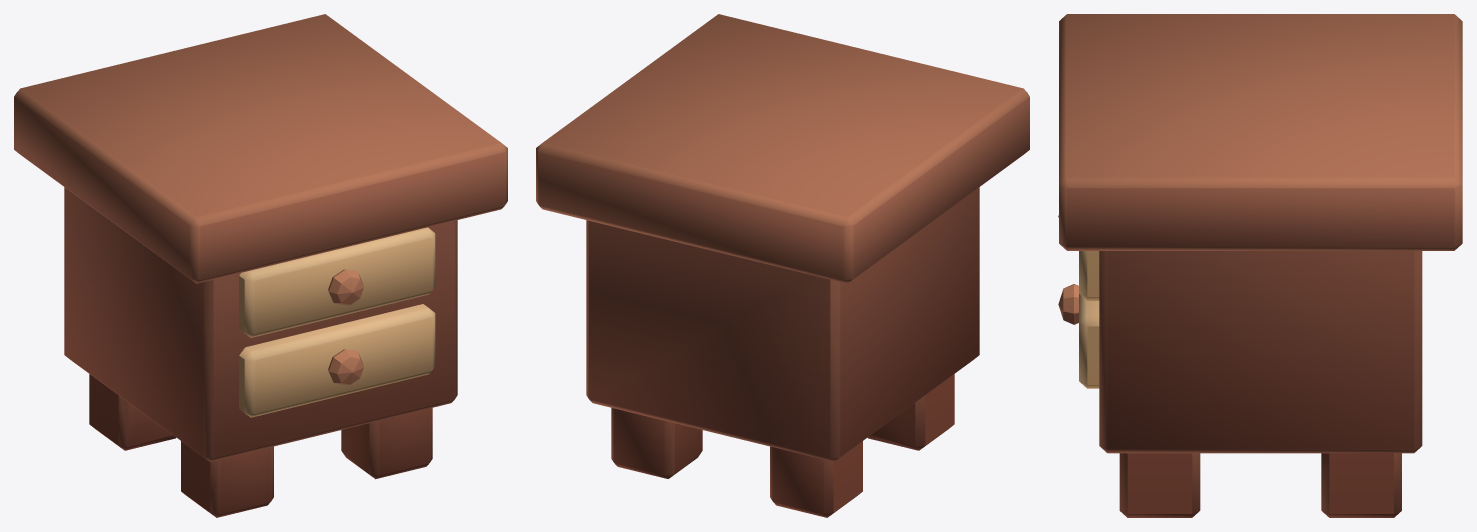
Rendered from cabinet-small.glb.
3 views of the same model, side by side, from view 1: azimuth 30°, elevation 25°; view 2: azimuth 150°, elevation 25°; view 3: azimuth 270°, elevation 25° (orthographic). The views are drawn at different scales.
Visible parts, largest first — view 1: cabinet_small; view 2: cabinet_small; view 3: cabinet_small.
Boxes of the visible parts, x1=… form: cabinet_small: x1=14, y1=14, x2=507, y2=517; cabinet_small: x1=536, y1=14, x2=1029, y2=517; cabinet_small: x1=1058, y1=14, x2=1462, y2=517.
Bounding box in the file's own units: 0.6 × 0.6 × 0.6009.
Materials: 1 (1 with a texture image).
